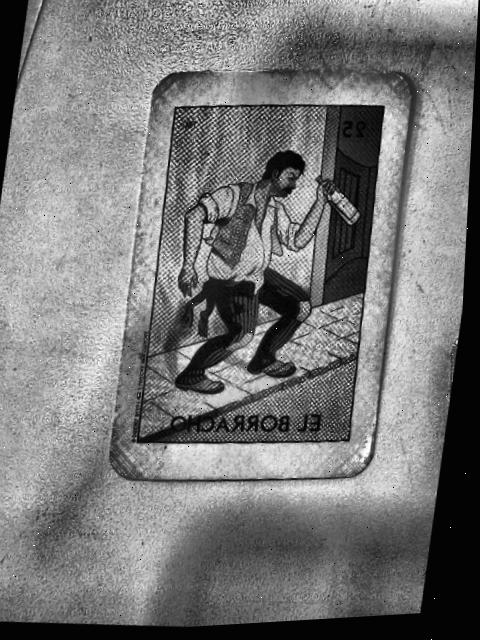El Borracho: (142, 108, 383, 443)
